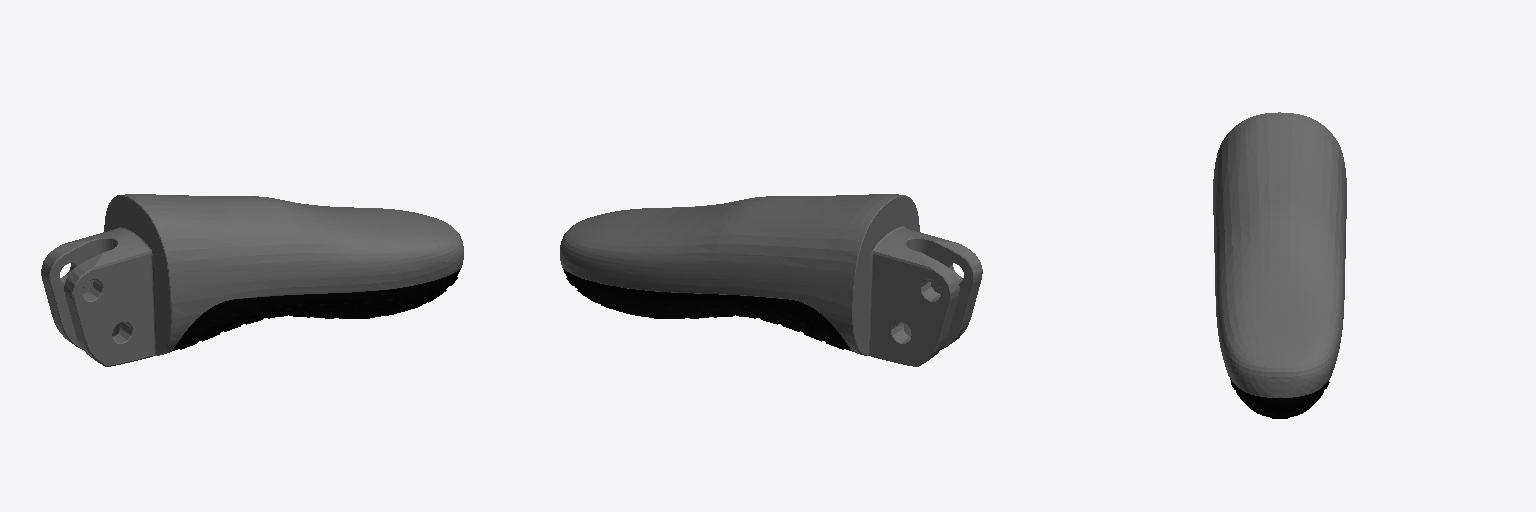
The model's file is L_index_intermediate_link.obj.
3 renders of one model, left to right at view 1: azimuth 30°, elevation 25°; view 2: azimuth 150°, elevation 25°; view 3: azimuth 270°, elevation 25°, orthographic.
Visible parts, largest first — view 1: L_index_intermediate_link; view 2: L_index_intermediate_link; view 3: L_index_intermediate_link.
Part boxes in pixels (x1,y1,x2,y2): L_index_intermediate_link: (41,194,463,366); L_index_intermediate_link: (560,194,982,366); L_index_intermediate_link: (1213,112,1346,418).
Size of the model in its own units: 0.0498 by 0.0202 by 0.0145.